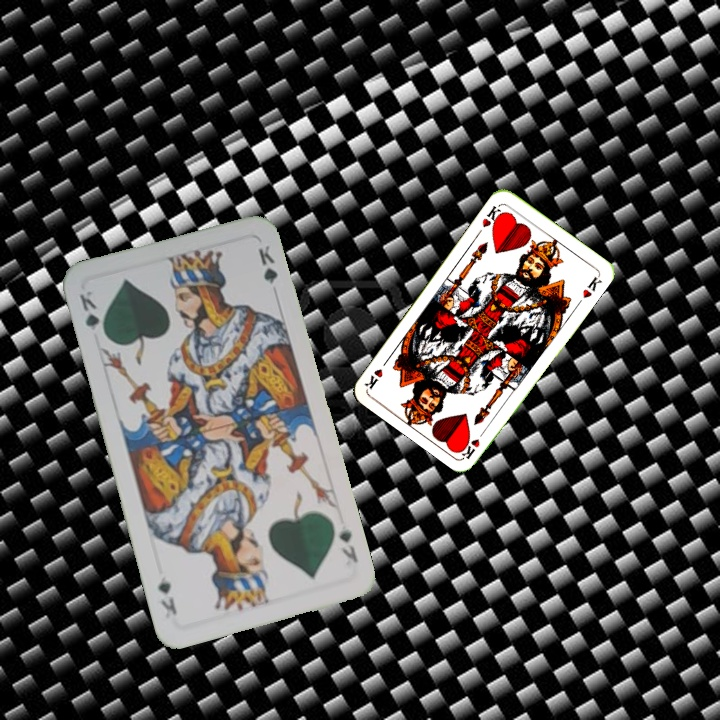GK: (75, 286, 109, 341), (335, 521, 361, 566)
HK: (458, 424, 490, 461), (478, 201, 506, 231)
